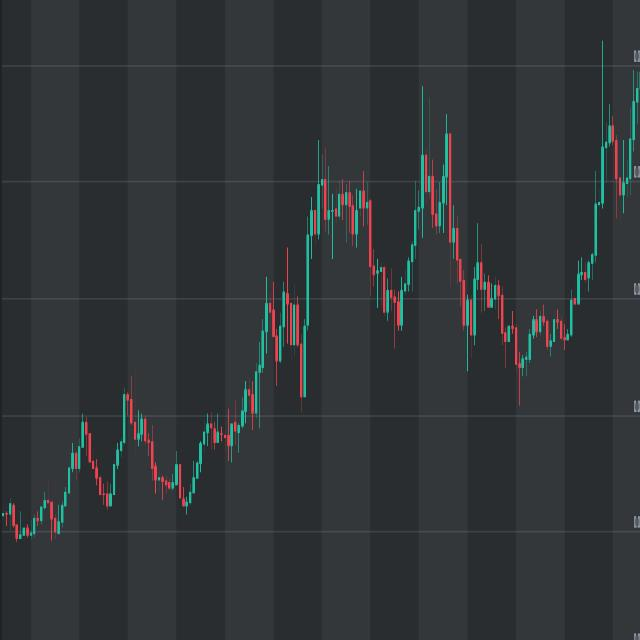Falling-Wedge: (409, 60, 534, 412)
Rising-Wedge: (148, 207, 314, 547)
